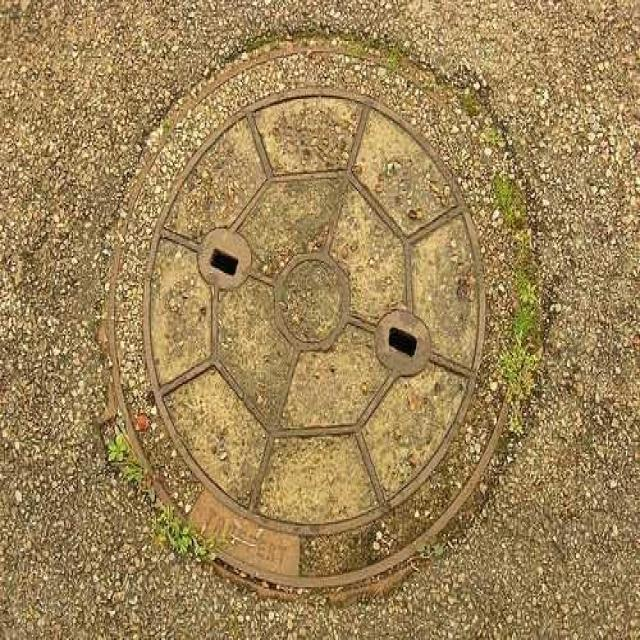manhole: (110, 43, 510, 592)
